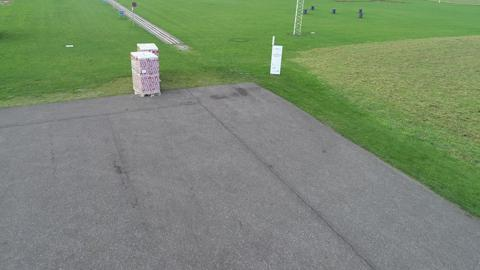RockwoolPallet: (137, 42, 160, 57)
